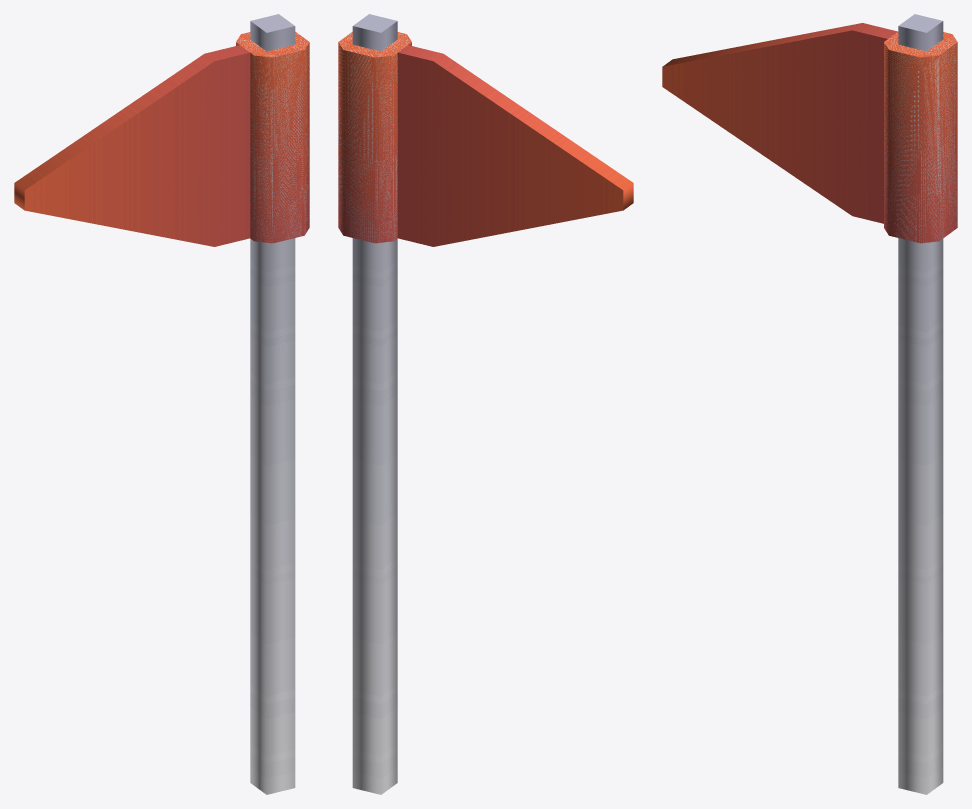
The model's file is flag_red.glb.
The picture shows the model from 3 angles, left to right: view 1: azimuth 30°, elevation 25°; view 2: azimuth 150°, elevation 25°; view 3: azimuth 330°, elevation 25°; orthographic projection.
Visible parts, largest first — view 1: flag-red; view 2: flag-red; view 3: flag-red.
Part boxes in pixels (box(x1,y1,x2,y2)): flag-red: box(14, 14, 309, 794); flag-red: box(338, 14, 633, 794); flag-red: box(662, 14, 957, 794).
Bounding box in the file's own units: 0.3956 × 1.02 × 0.0781.
Materials: 1 (1 with a texture image).
